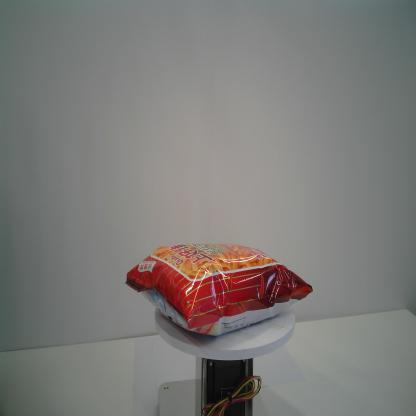Puffed Food: (125, 242, 313, 337)
